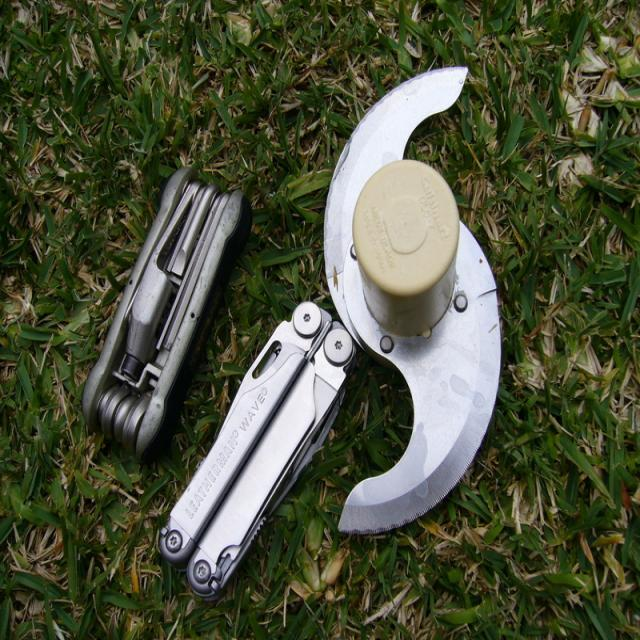tool: (324, 68, 500, 533), (160, 302, 354, 599), (83, 169, 251, 460)
